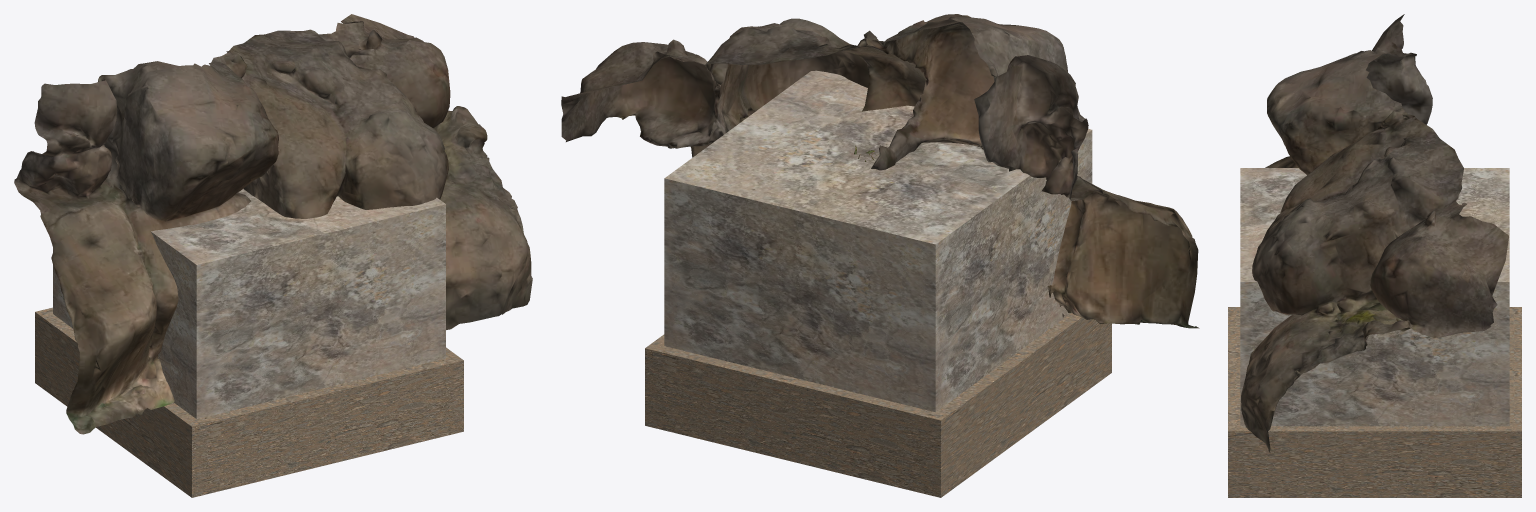
File: env_desert.glb
3 views of the same model, side by side, from view 1: azimuth 30°, elevation 25°; view 2: azimuth 150°, elevation 25°; view 3: azimuth 270°, elevation 25° (orthographic). The views are drawn at different scales.
Parts seen in each view (by area): view 1: drone_rock_01, desert_under, desert_tile_gravel; view 2: desert_under, drone_rock_01, desert_tile_gravel; view 3: drone_rock_01, desert_under, desert_tile_gravel.
Part boxes in pixels (x1,y1,x2,y2): drone_rock_01: (14, 14, 532, 434); desert_under: (53, 188, 445, 418); desert_tile_gravel: (35, 307, 463, 497); desert_under: (664, 70, 1092, 412); drone_rock_01: (561, 14, 1199, 328); desert_tile_gravel: (645, 313, 1111, 497); drone_rock_01: (1240, 14, 1508, 452); desert_under: (1240, 168, 1509, 426); desert_tile_gravel: (1228, 307, 1521, 497).
Bounding box in the file's own units: 8.28 × 6.16 × 4.8.
22 materials, 22 textured.
